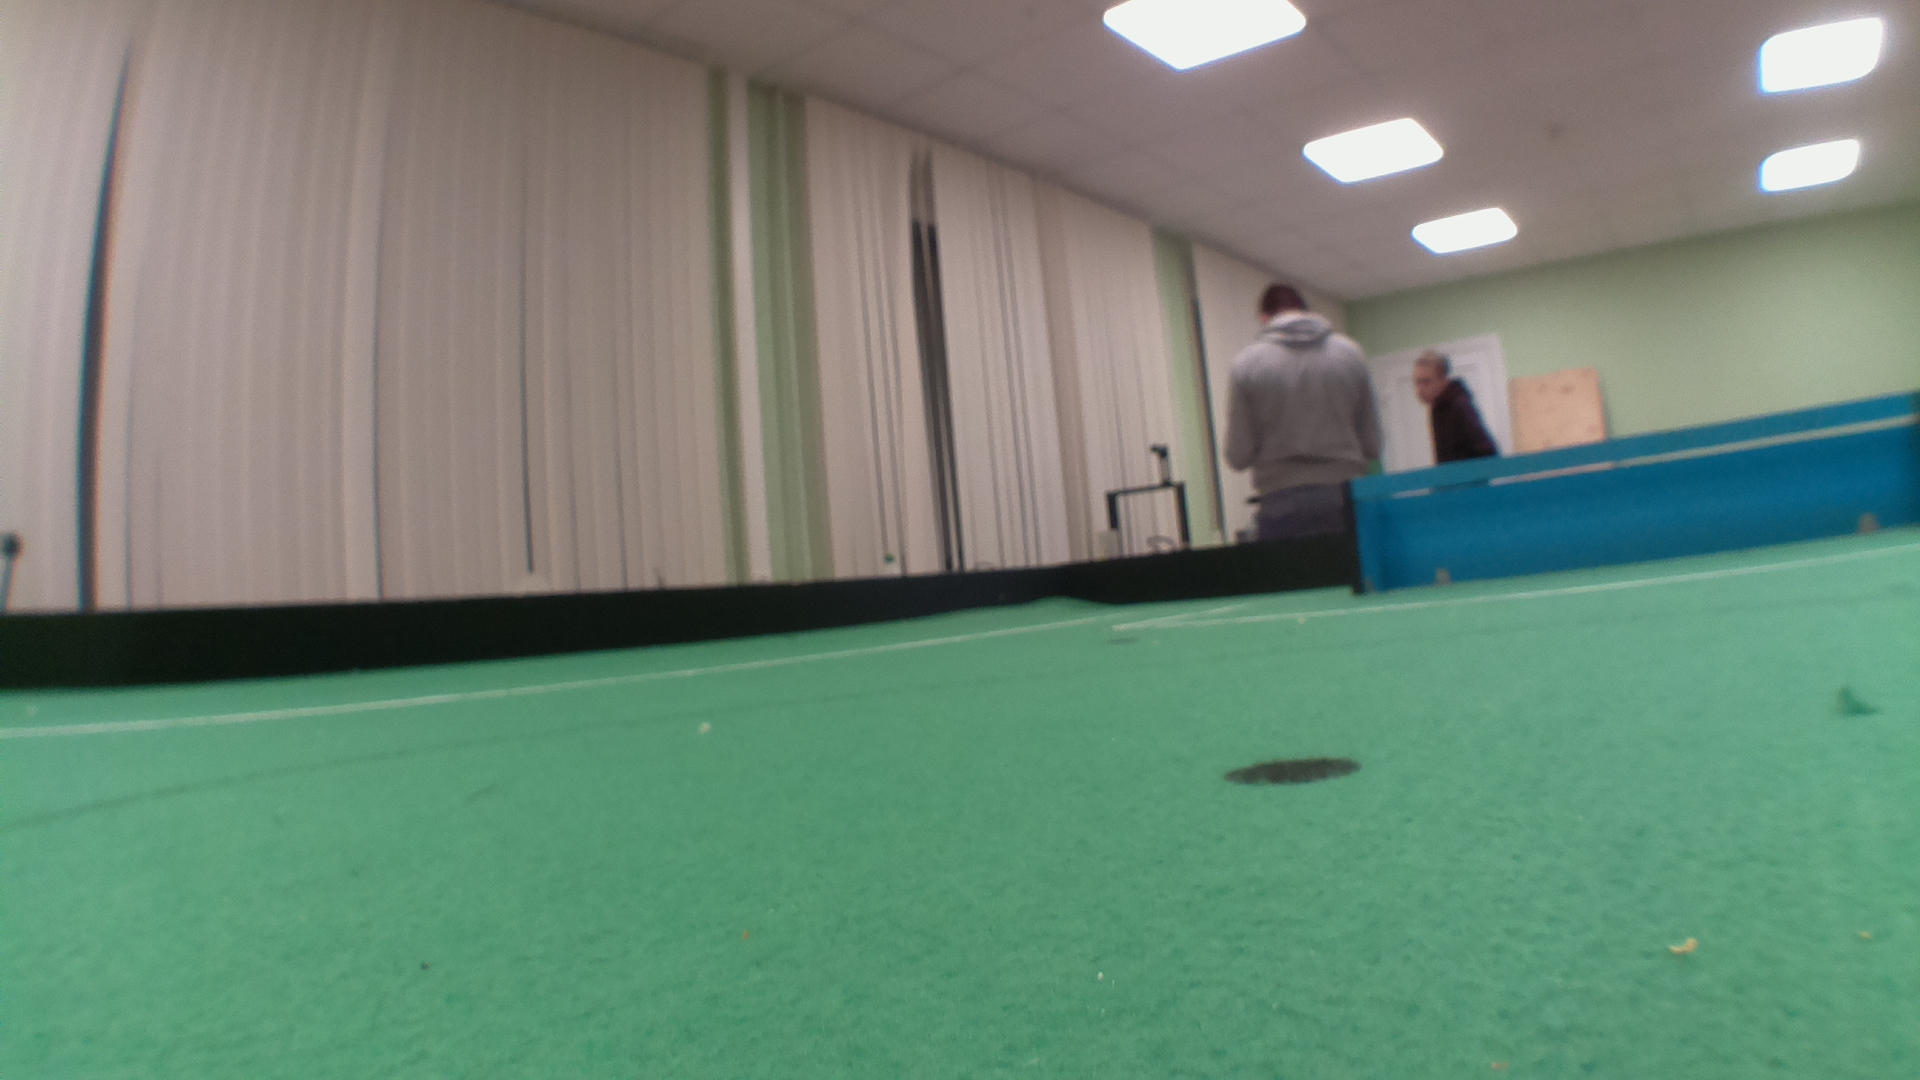BlueGoal: (1360, 392, 1917, 600)
